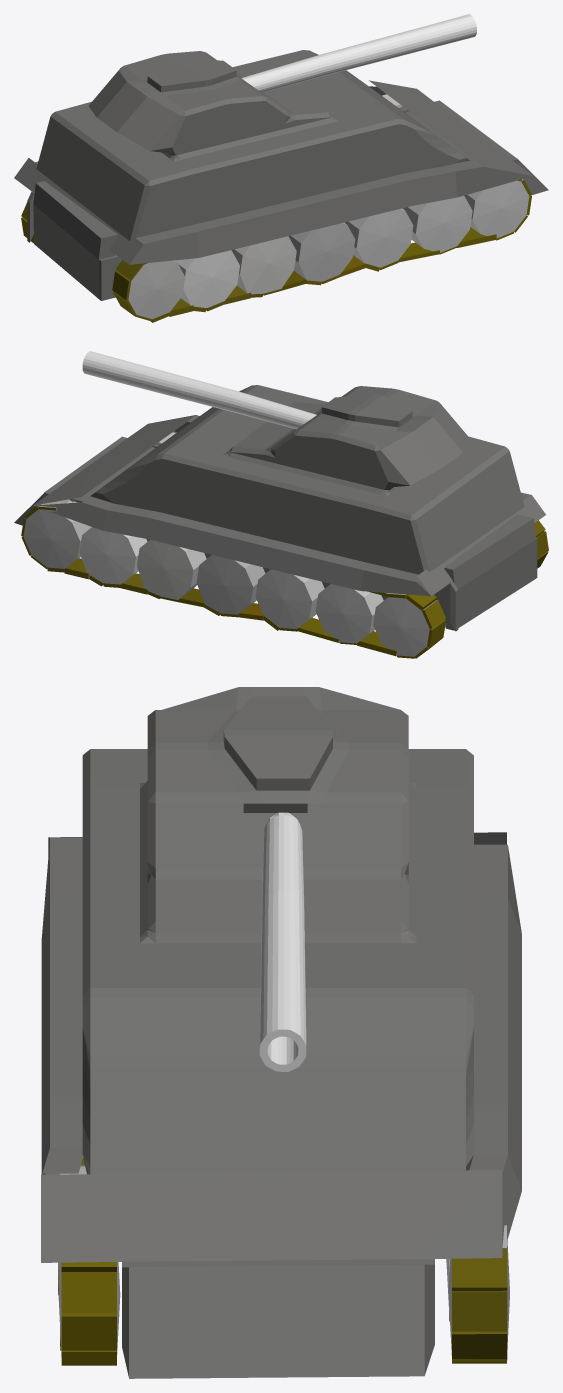
Rendered from simple_tank1.dae.
The picture shows the model from 3 angles, top to bottom: view 1: azimuth 30°, elevation 25°; view 2: azimuth 150°, elevation 25°; view 3: azimuth 270°, elevation 25°; orthographic projection. The views are drawn at different scales.
Parts seen in each view (by area): view 1: Cube, Cylinder, Circle_007, Circle_011, Circle_010, Circle_012, Circle_009, Circle_008, Circle_013; view 2: Cube, Cylinder, Circle, Circle_002, Circle_006, Circle_003, Circle_004, Circle_001, Circle_005, Circle_007; view 3: Cube, Cylinder, Circle_006, Circle_013.
Boxes of the visible parts, bbox=[...] form: Cube: bbox=[14, 50, 548, 300]; Cylinder: bbox=[241, 14, 476, 92]; Circle_007: bbox=[112, 260, 193, 322]; Circle_011: bbox=[345, 208, 439, 271]; Circle_010: bbox=[288, 222, 365, 285]; Circle_012: bbox=[404, 195, 496, 254]; Circle_009: bbox=[231, 236, 306, 297]; Circle_008: bbox=[175, 250, 251, 312]; Circle_013: bbox=[464, 179, 531, 240]; Cube: bbox=[14, 385, 545, 631]; Cylinder: bbox=[82, 351, 316, 429]; Circle: bbox=[369, 591, 445, 658]; Circle_002: bbox=[255, 569, 339, 642]; Circle_006: bbox=[21, 499, 91, 579]; Circle_003: bbox=[196, 554, 265, 620]; Circle_004: bbox=[137, 539, 206, 607]; Circle_001: bbox=[315, 584, 396, 656]; Circle_005: bbox=[73, 501, 147, 594]; Circle_007: bbox=[534, 520, 548, 568]; Cube: bbox=[41, 687, 521, 1378]; Cylinder: bbox=[259, 812, 306, 1071]; Circle_006: bbox=[448, 1225, 509, 1363]; Circle_013: bbox=[58, 1262, 120, 1365].
Size of the model in its own units: 3.77 by 1.75 by 1.56.
